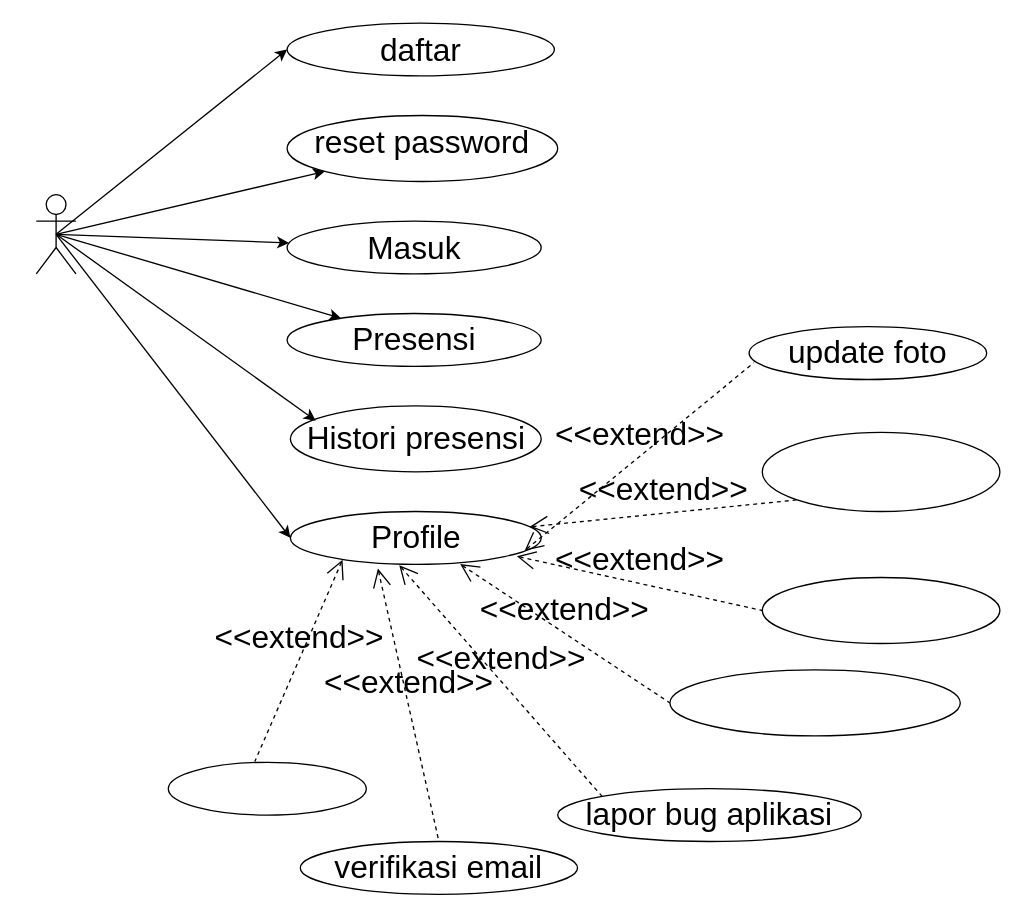
This 1023x917 diagram has some shape labels left out. The shapes that lost their labels are listed below. From the top down, each one's centre as x and y in pixels, then its label:
pixel 55 233: User
pixel 880 471: update username
pixel 880 610: update email
pixel 814 702: update password
pixel 266 788: keluar
